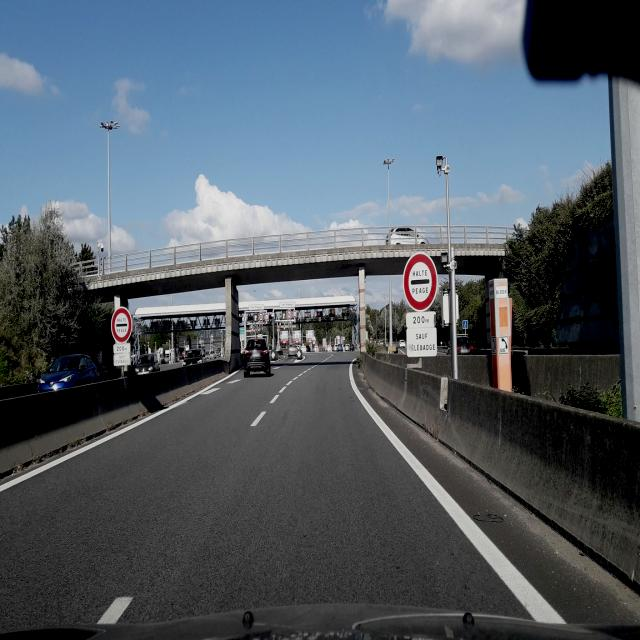car: (37, 353, 100, 392), (242, 337, 272, 377), (184, 348, 203, 364)
